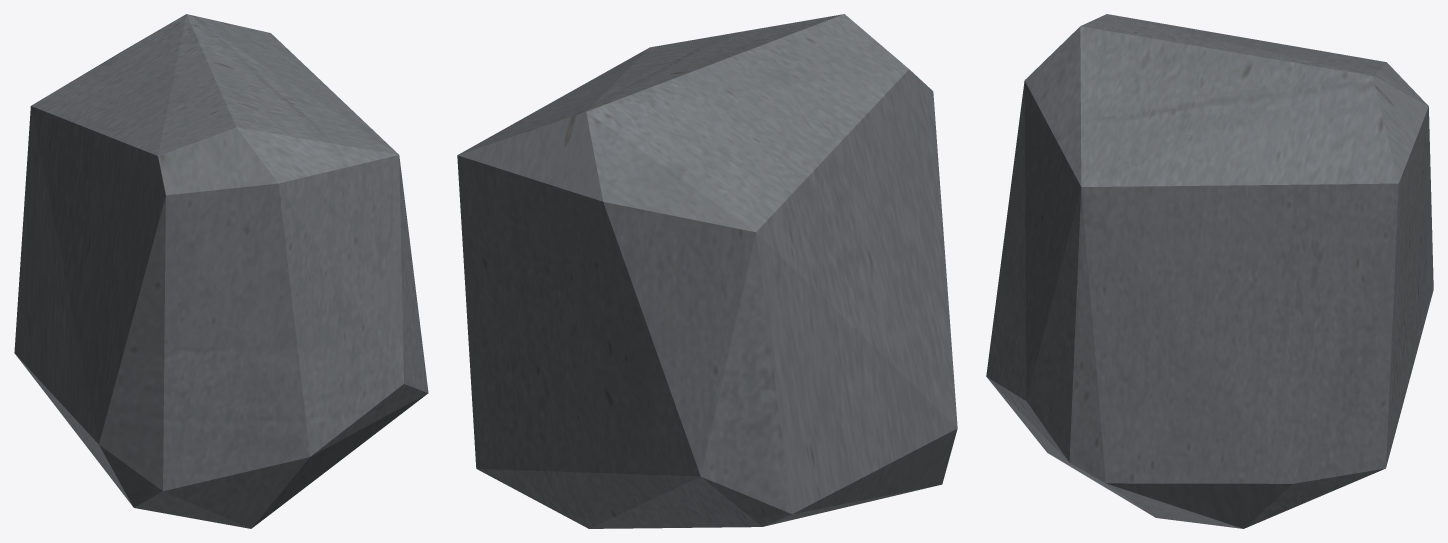
Rendered from stone.obj.
3 renders of one model, left to right at view 1: azimuth 30°, elevation 25°; view 2: azimuth 150°, elevation 25°; view 3: azimuth 270°, elevation 25°, orthographic. The views are drawn at different scales.
Visible parts, largest first — view 1: 立方体; view 2: 立方体; view 3: 立方体.
Boxes of the visible parts, x1,y1,x2,y2 form: 立方体: (14,14,428,528); 立方体: (457,14,957,528); 立方体: (986,14,1433,528).
Size of the model in its own units: 1.65 by 2.01 by 1.79.
Materials: 1 (1 with a texture image).
